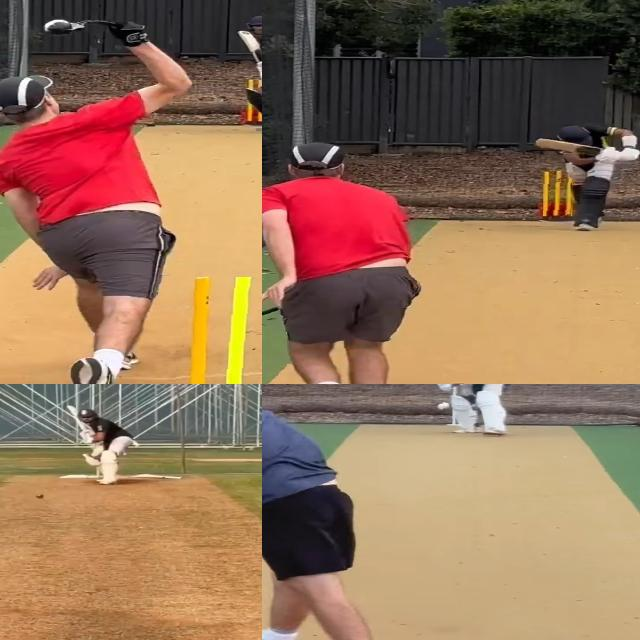Cricket ball: (434, 400, 454, 412), (35, 494, 44, 499)
Stumps: (176, 277, 262, 384), (543, 170, 573, 221)
